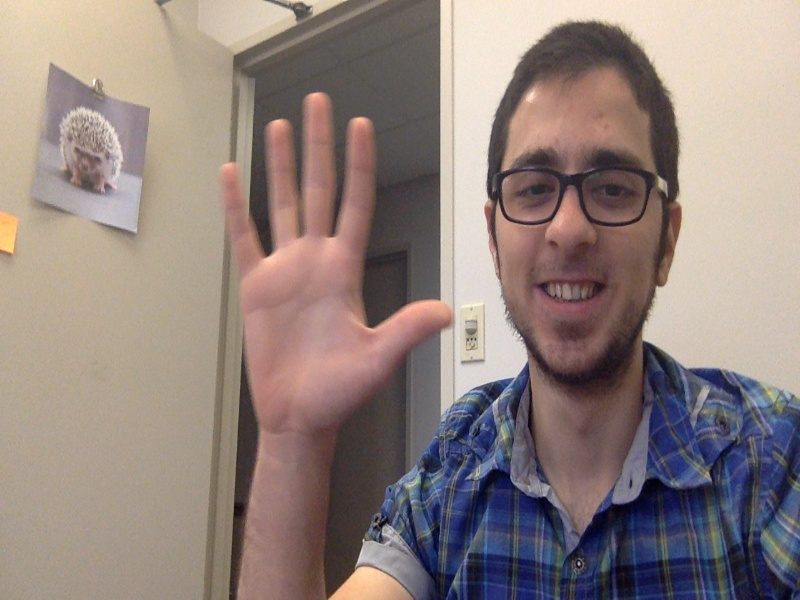5-hand: (219, 92, 454, 434)
